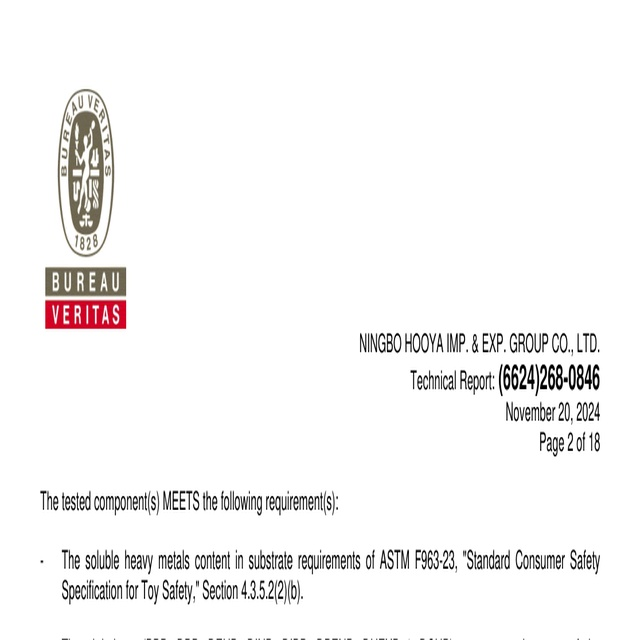bureau_veritas: (44, 82, 131, 334)
